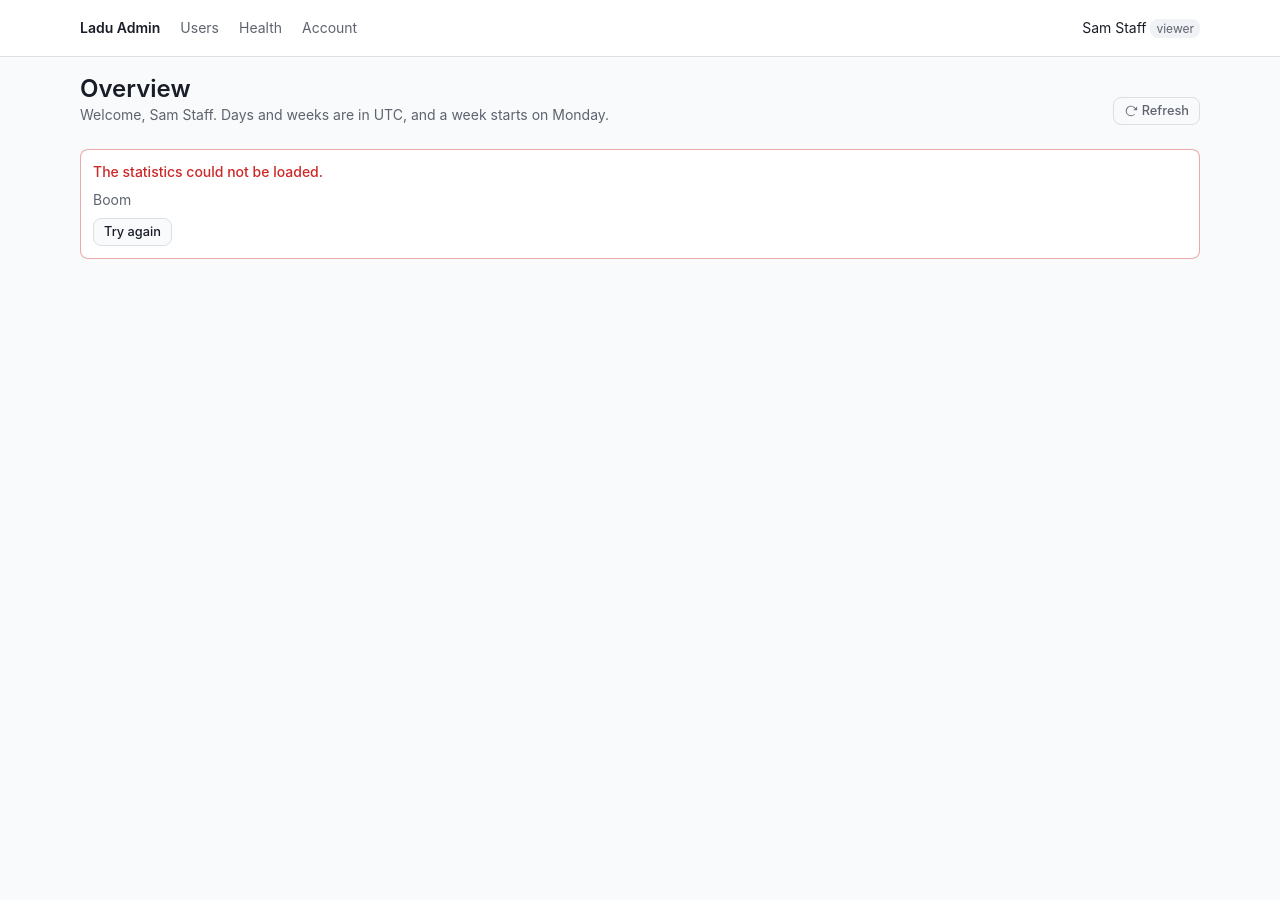
loading, errors and refreshing › shows the server error and tries again
The width and height of the screenshot is (1280, 900).
Expected: the message shows "The statistics could not be loaded.", [93,163,323,180]
Expected: the message shows "Boom", [93,191,131,208]
Click the button "Try again" at (132, 232), box [93,218,172,246]
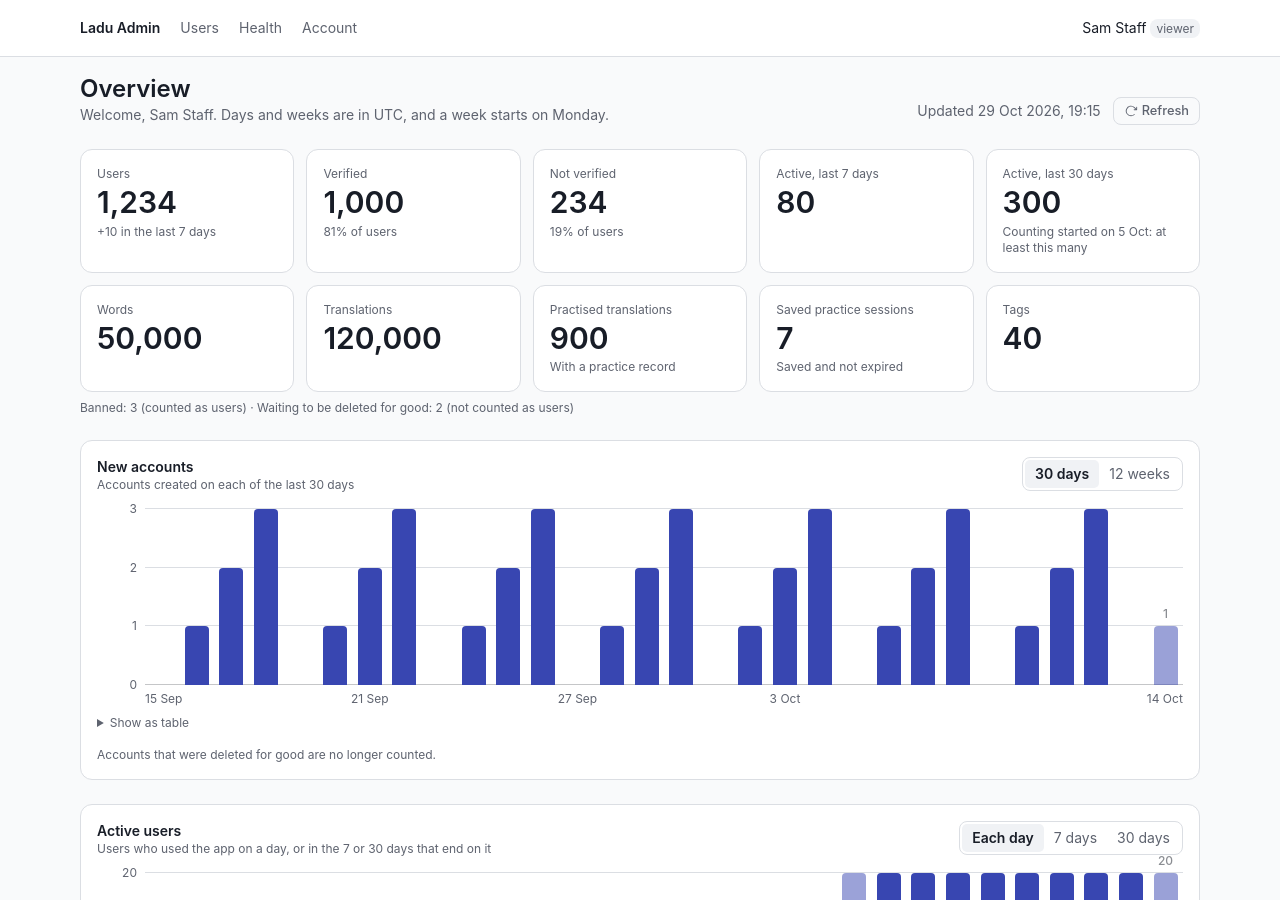
Now the text "1,234" is shown, box [97,184,177,220]
Now the message "The statistics could not be loaded. Boom Try again" is gone
